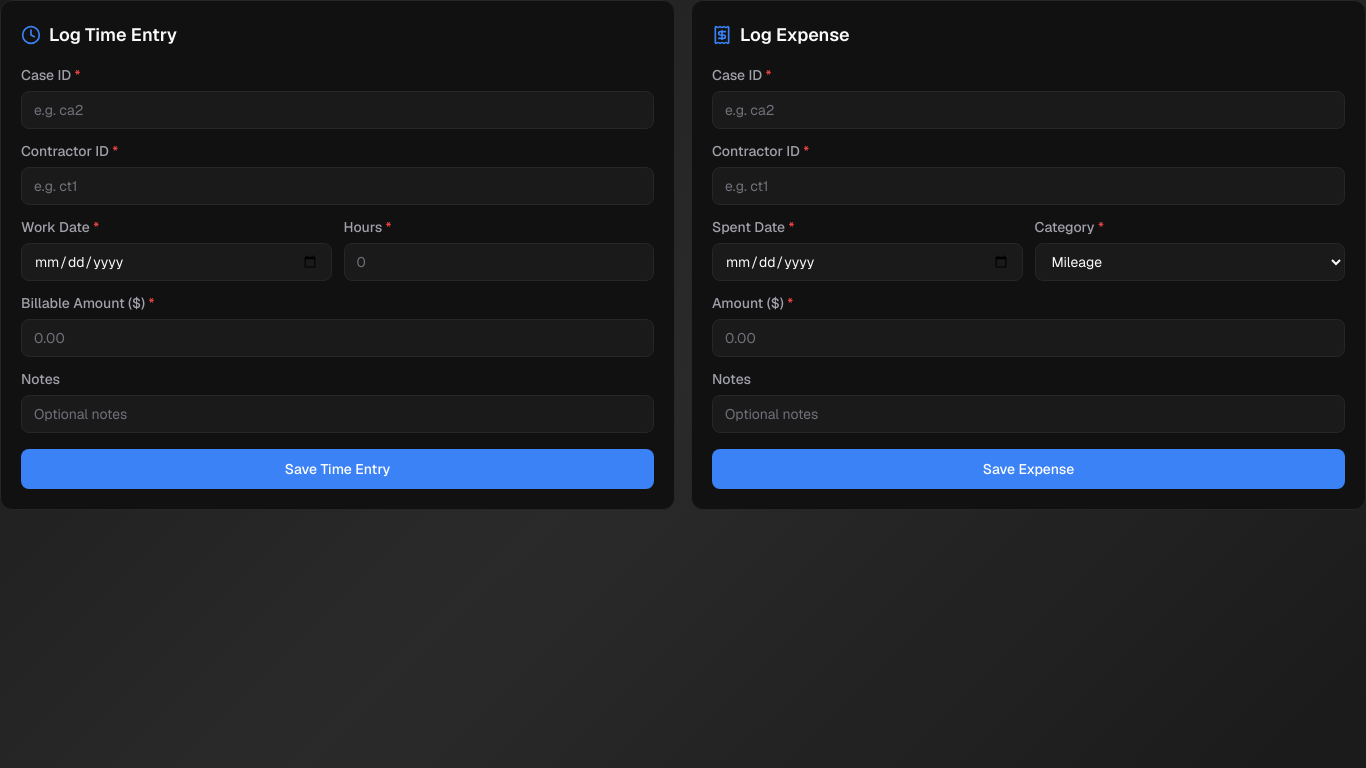
TeamEntryForms › shows error message on failed time entry submission
In the field with id "te-caseId": point(338, 110) [21, 91, 654, 129], type "ca1"
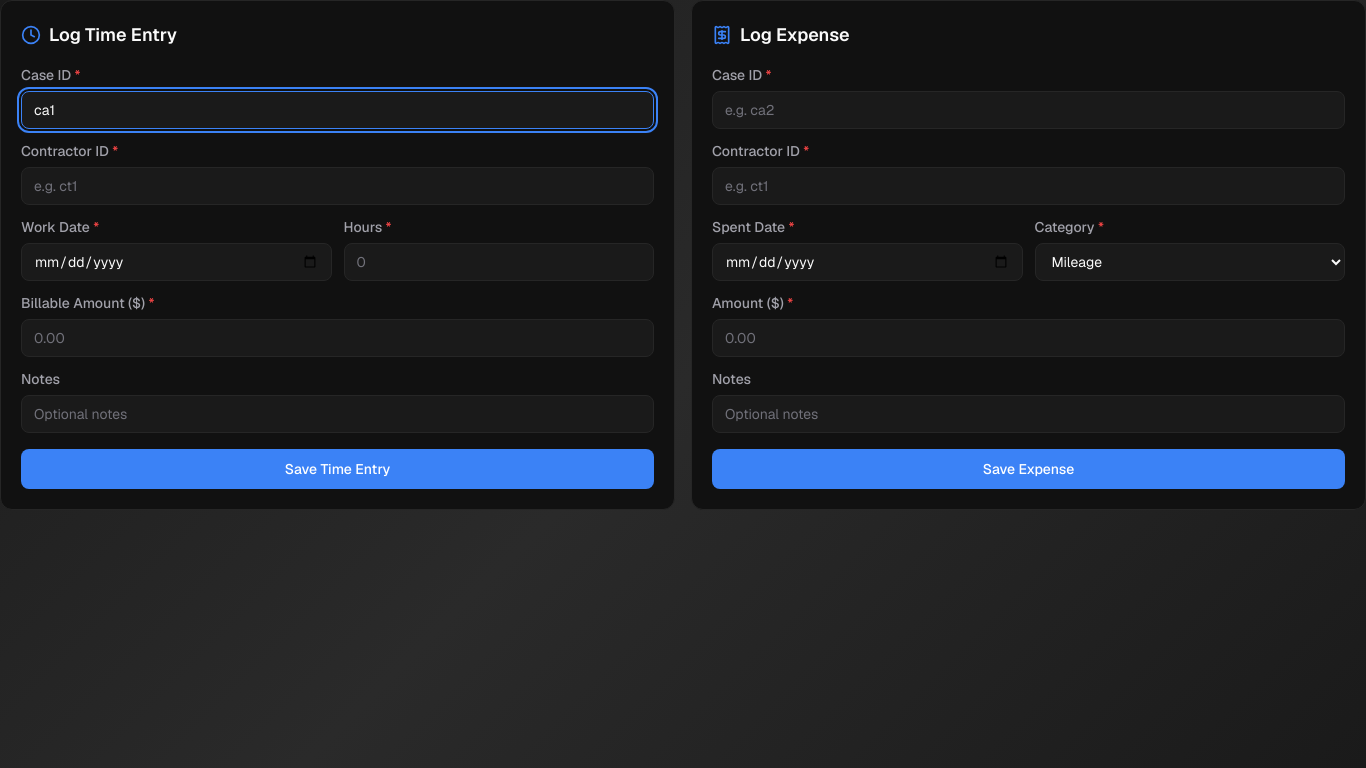
In the field with id "te-contractorId": point(338, 186) [21, 167, 654, 205], type "ct1"
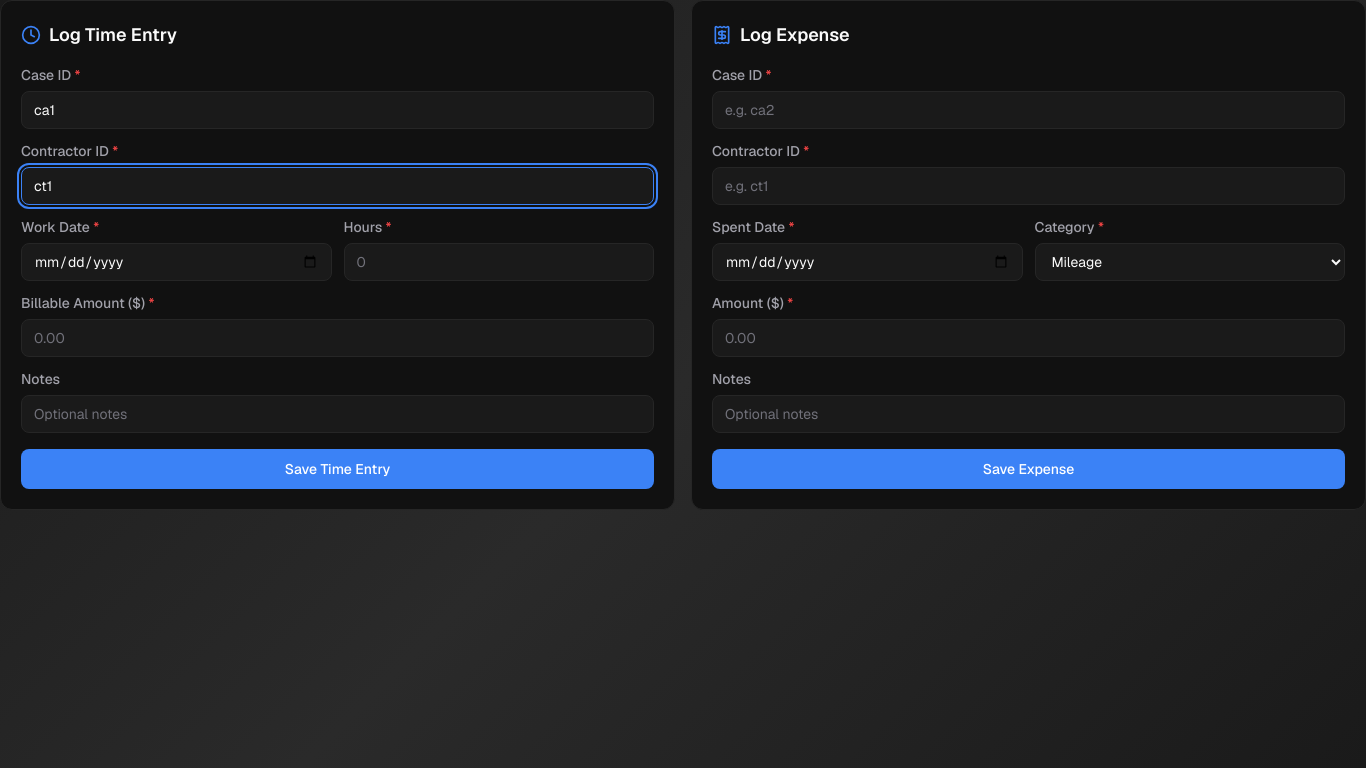
In the date field labelled "Work Date *": point(176, 262) [21, 243, 332, 281], type "2024-01-15"
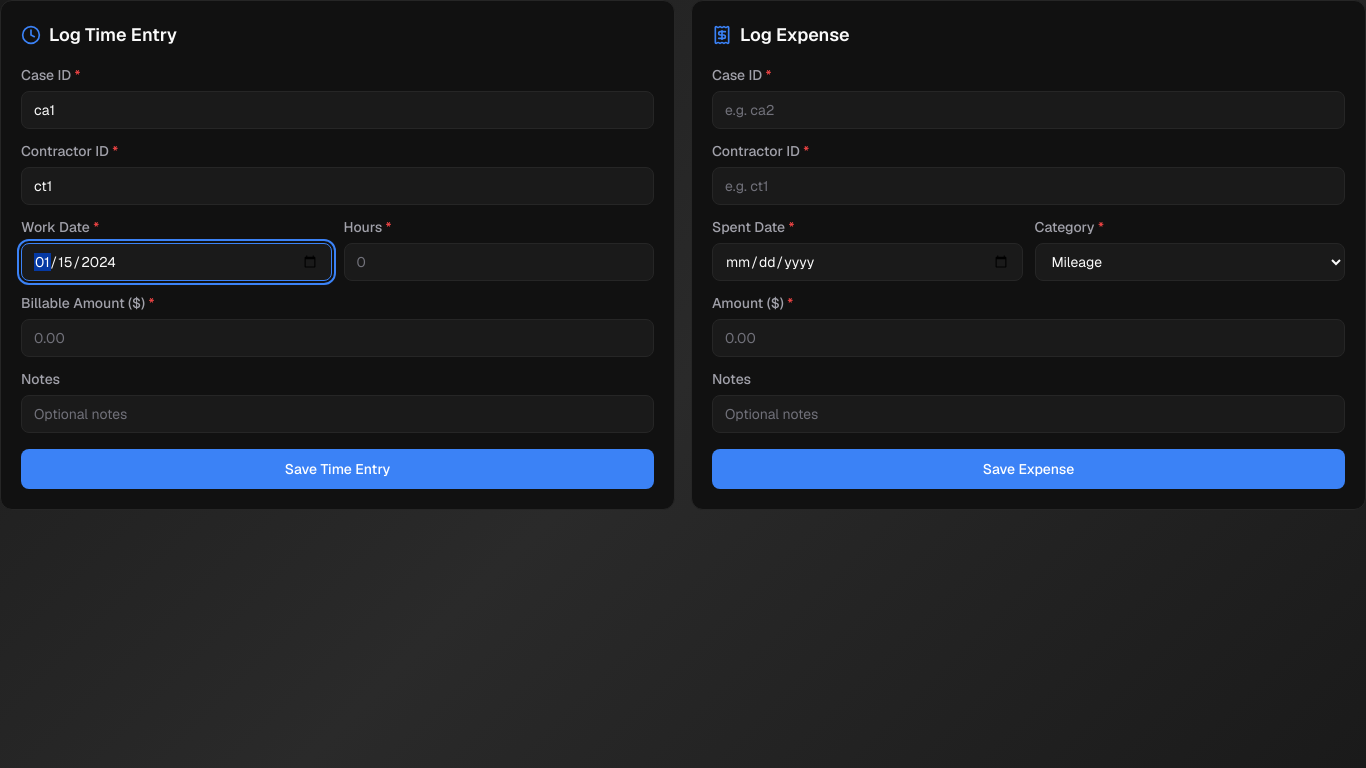
In the number field with id "te-hours": point(499, 262) [344, 243, 654, 281], type "2"
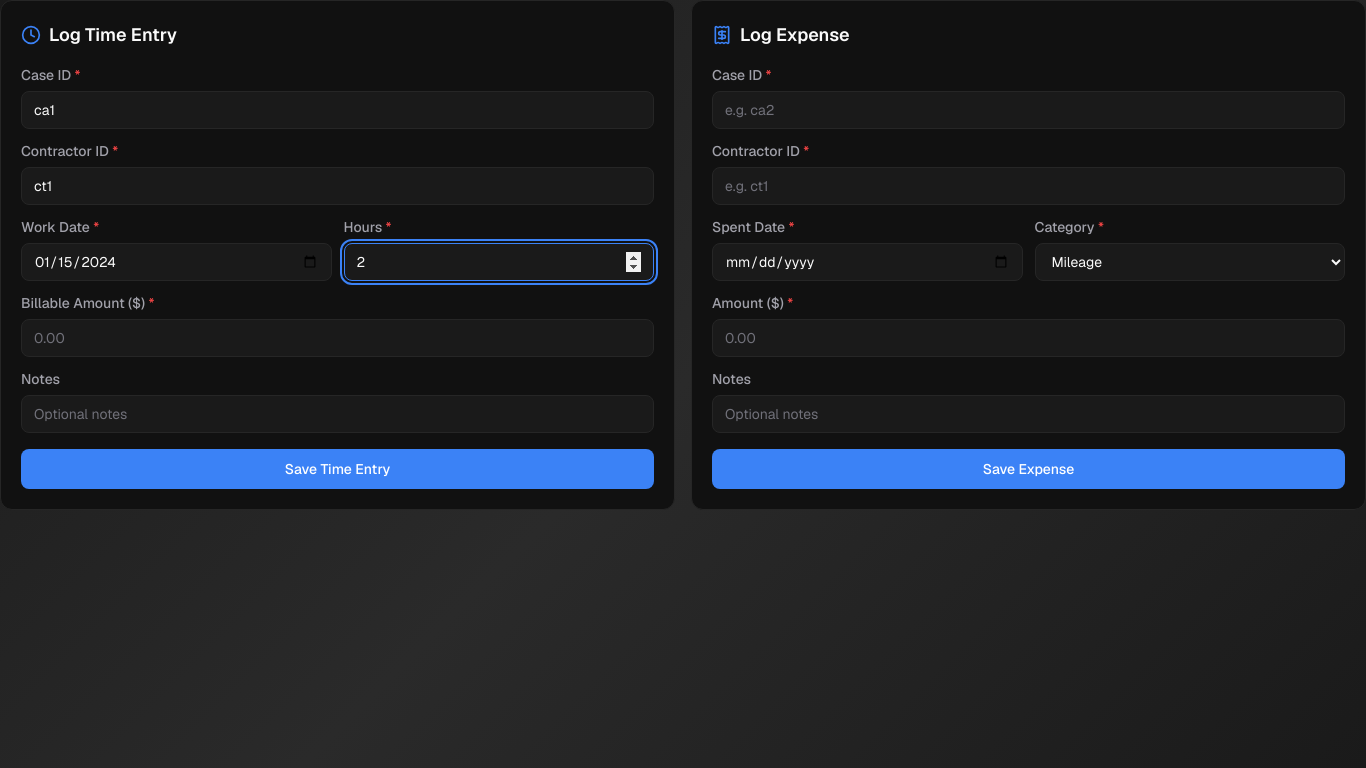
In the number field with id "te-billable": point(338, 338) [21, 319, 654, 357], type "250"
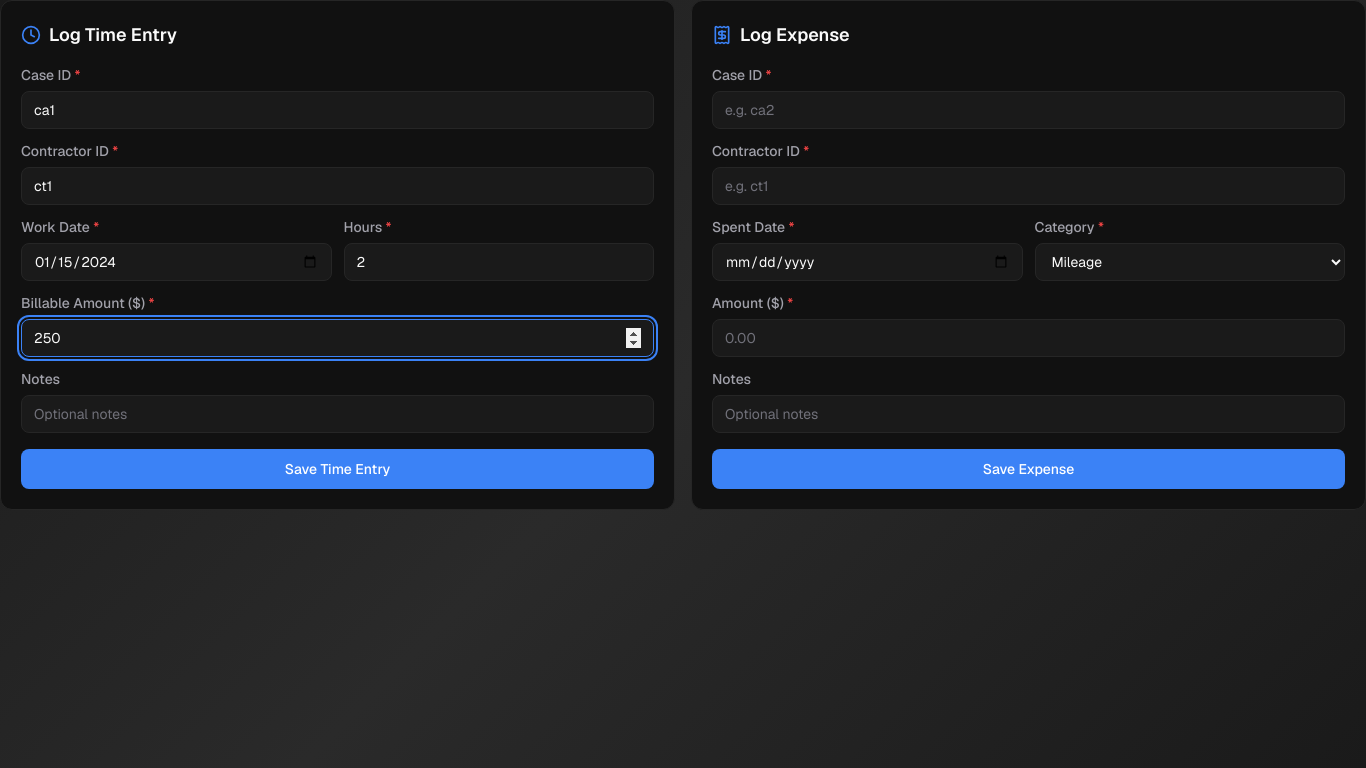
Click the button "Save Time Entry": point(338, 469) [21, 449, 654, 489]
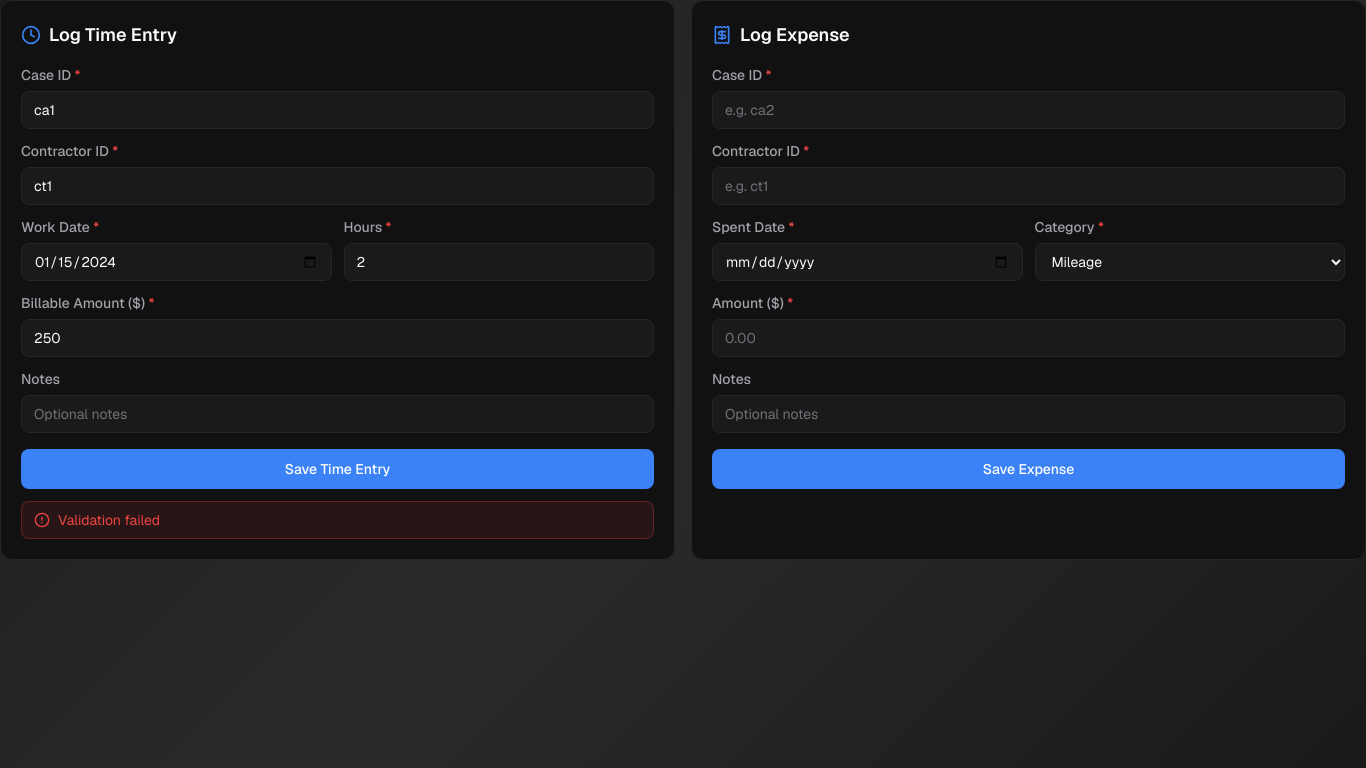
expect the text "Validation failed" is shown: met, box [21, 501, 654, 539]
